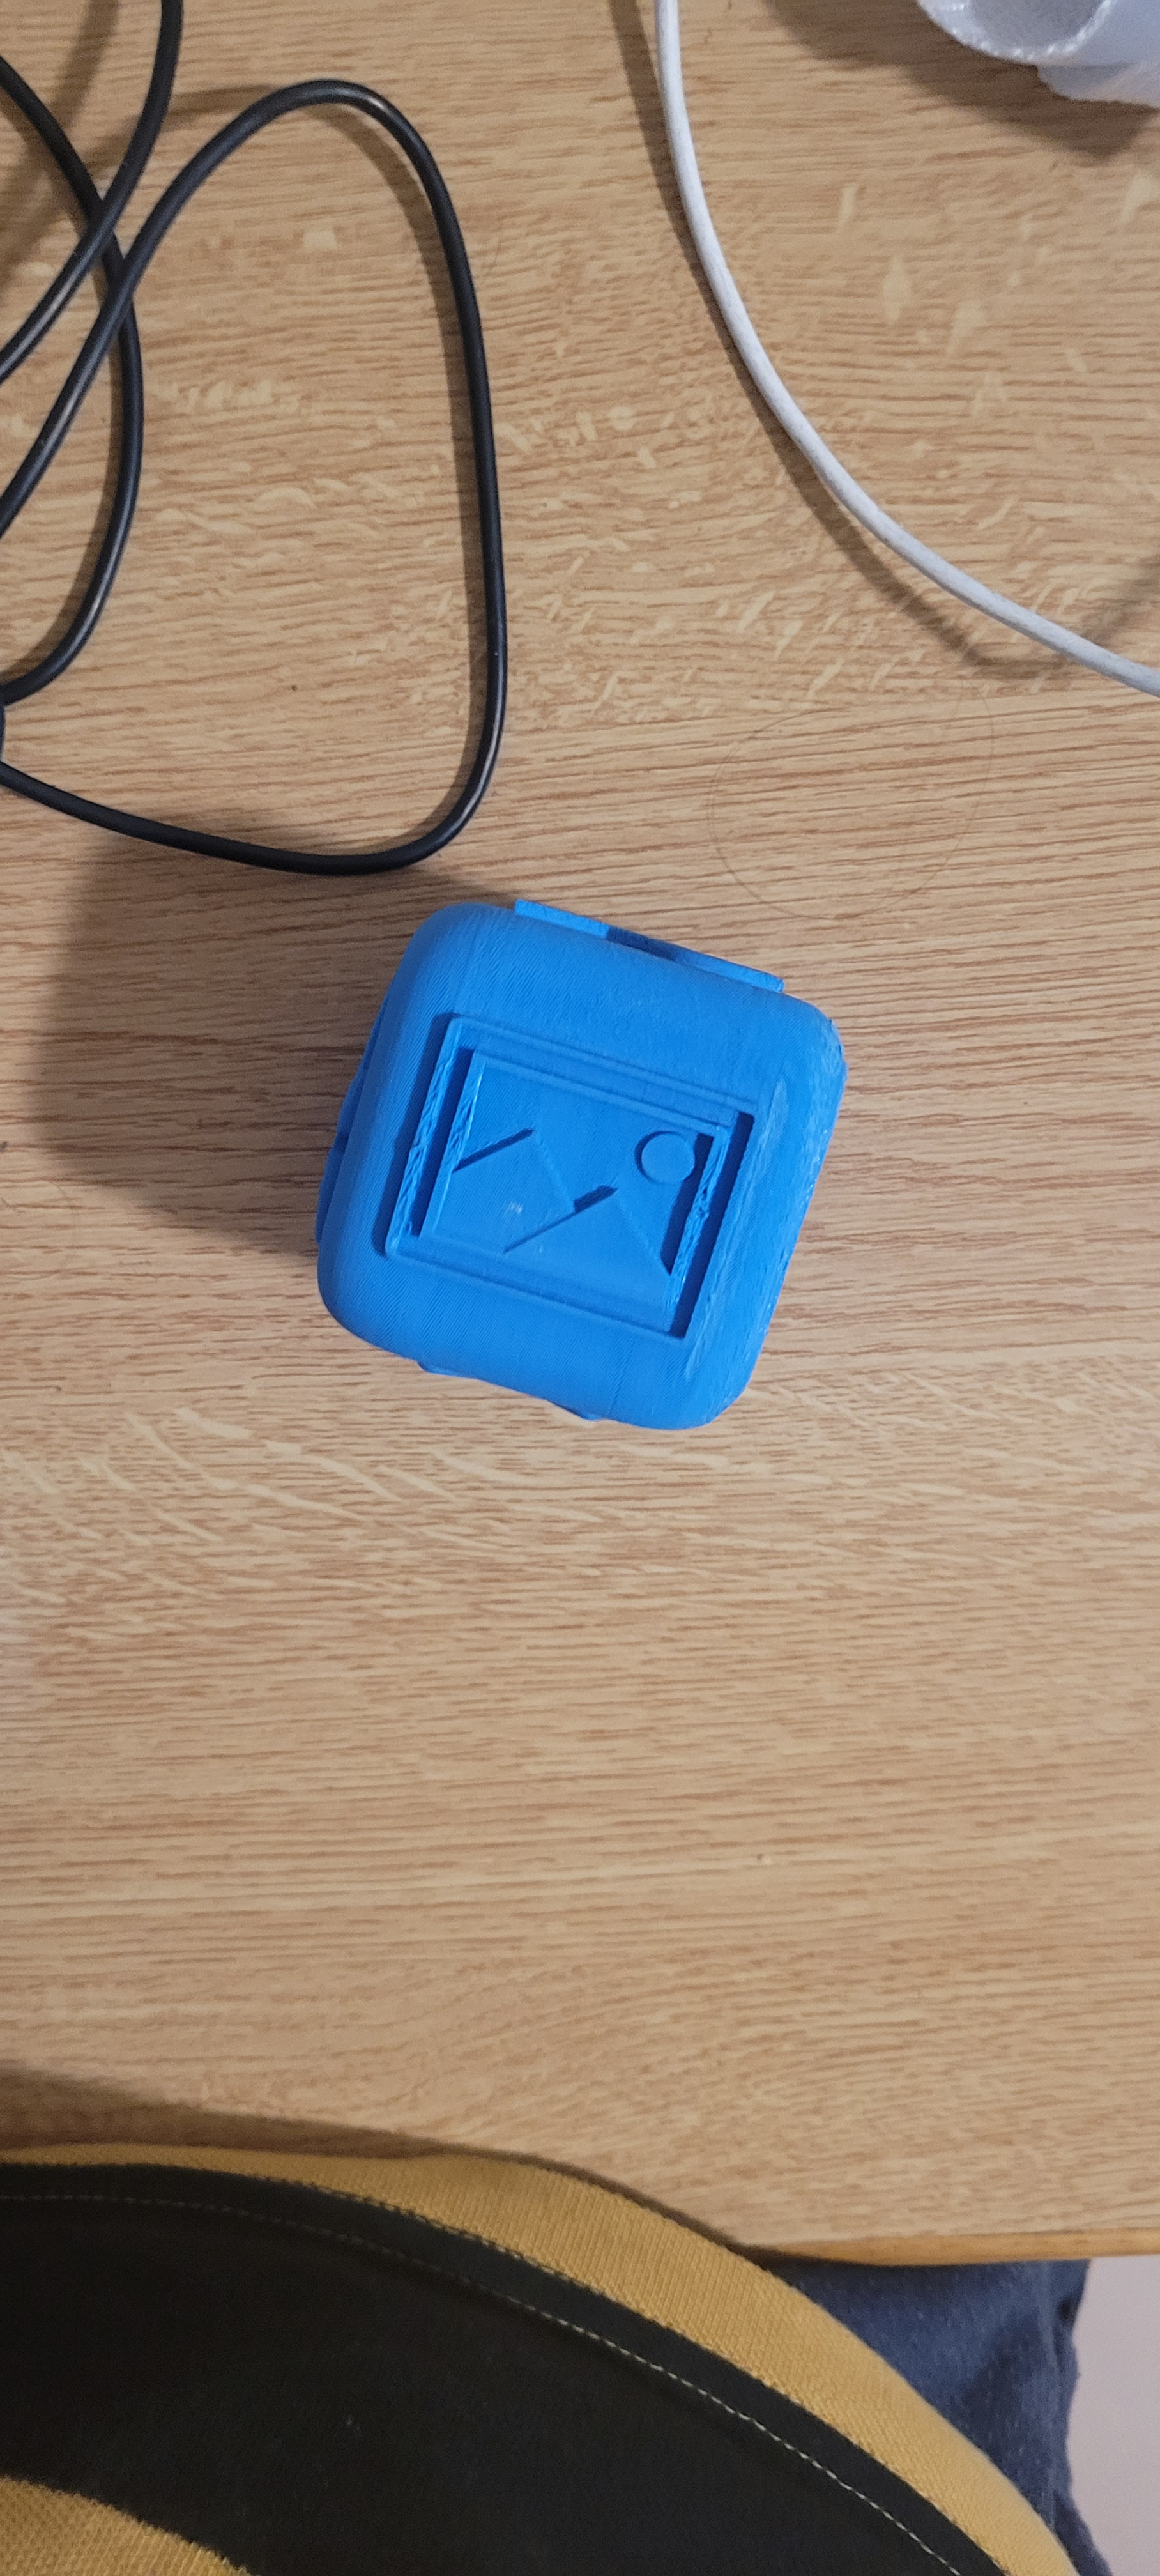Story: (363, 1053, 797, 1308)
